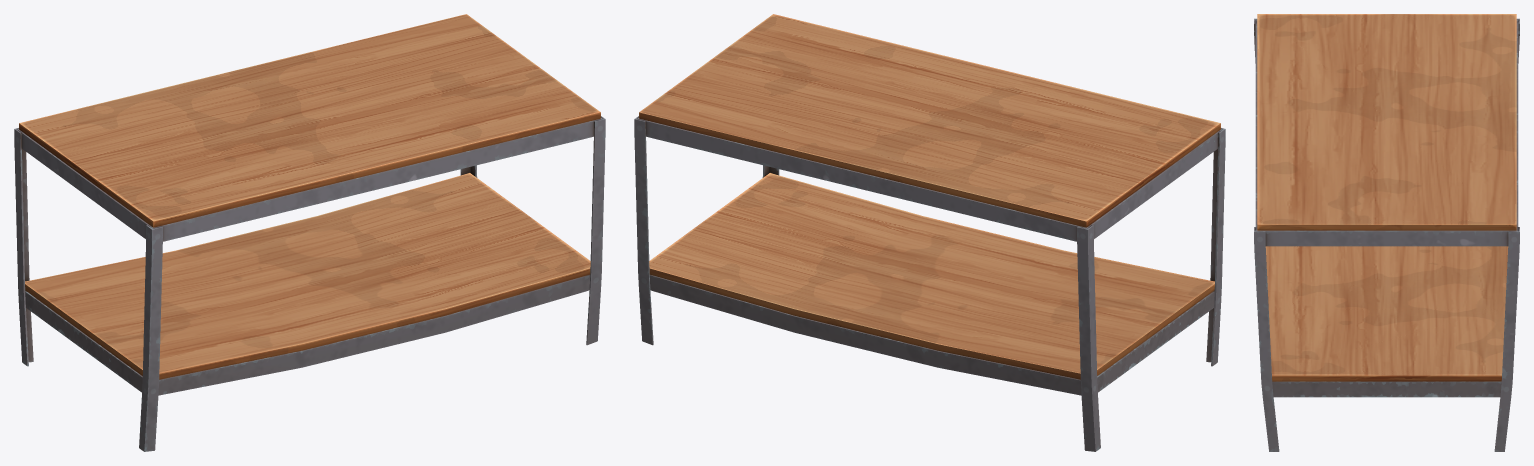
The model's file is Table03_1.FBX.
3 views of the same model, side by side, from view 1: azimuth 30°, elevation 25°; view 2: azimuth 150°, elevation 25°; view 3: azimuth 270°, elevation 25° (orthographic). The views are drawn at different scales.
Visible parts, largest first — view 1: Table03_1; view 2: Table03_1; view 3: Table03_1.
Part boxes in pixels (x1,y1,x2,y2): Table03_1: [14, 14, 605, 451]; Table03_1: [634, 14, 1225, 451]; Table03_1: [1254, 14, 1519, 451].
Size of what is drawn, in the model's own units: 1.52 by 0.7546 by 0.7999.
